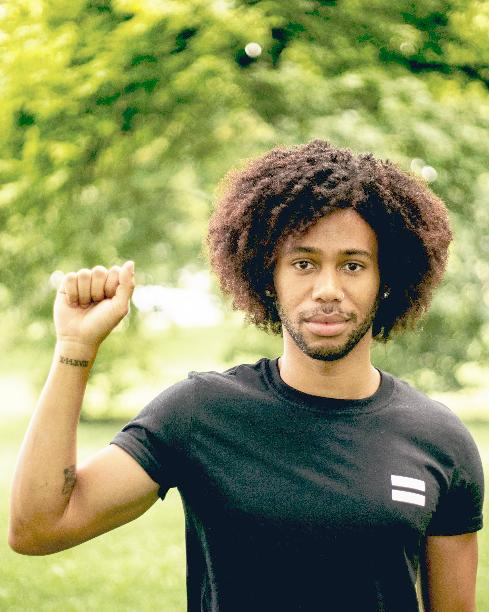Rock: (48, 256, 144, 342)
